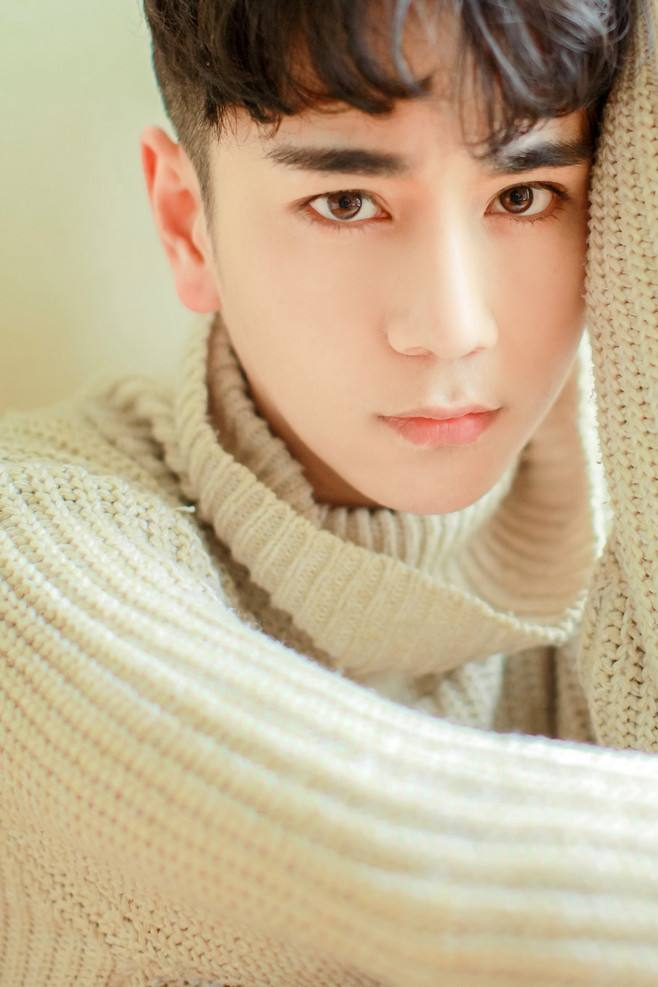person: (110, 1, 614, 957)
